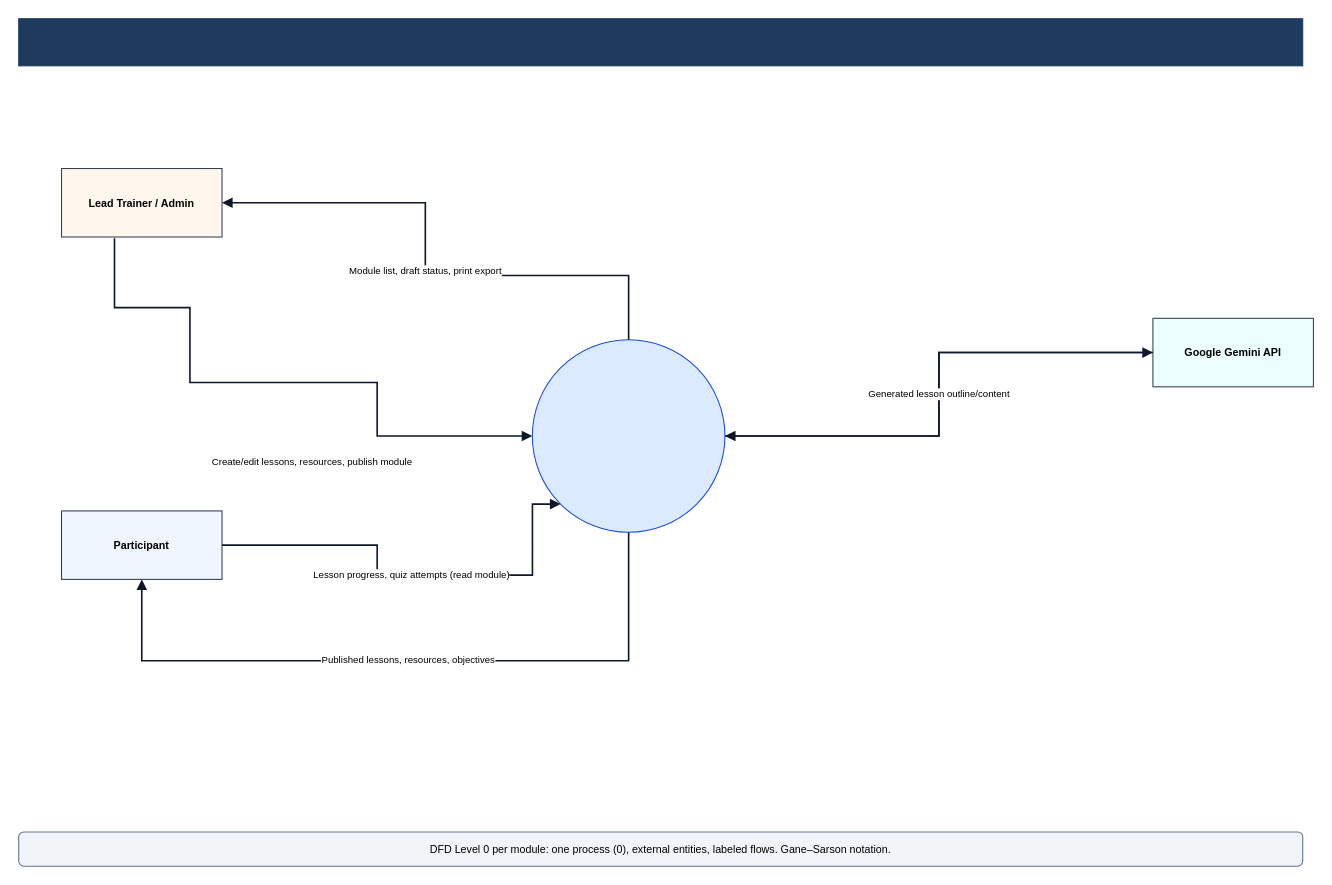
Some shapes in this 1332 by 885 pixel diagram are drawn without their labels. Each missing label, with the centre of its shape:
"0 Training Module Management" belongs at (628,435).
"M2 — Training Module Management — DFD Level 0" belongs at (660,42).
